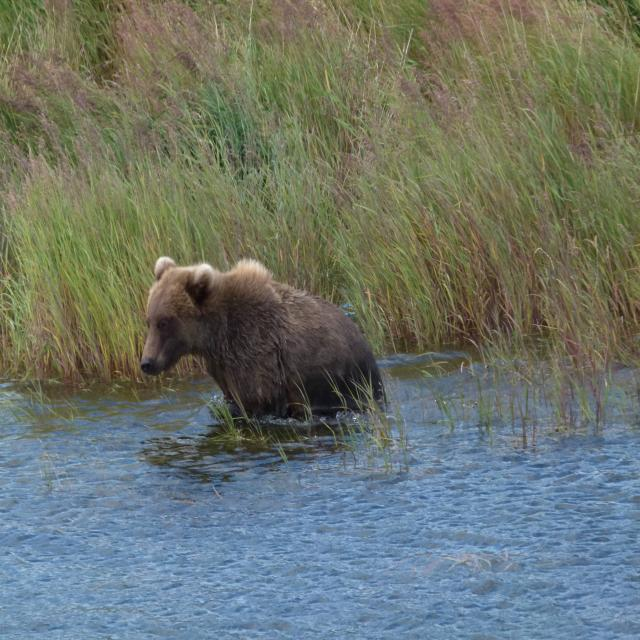bear face: (139, 255, 385, 422)
